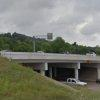Bridge: (5, 39, 100, 71)
